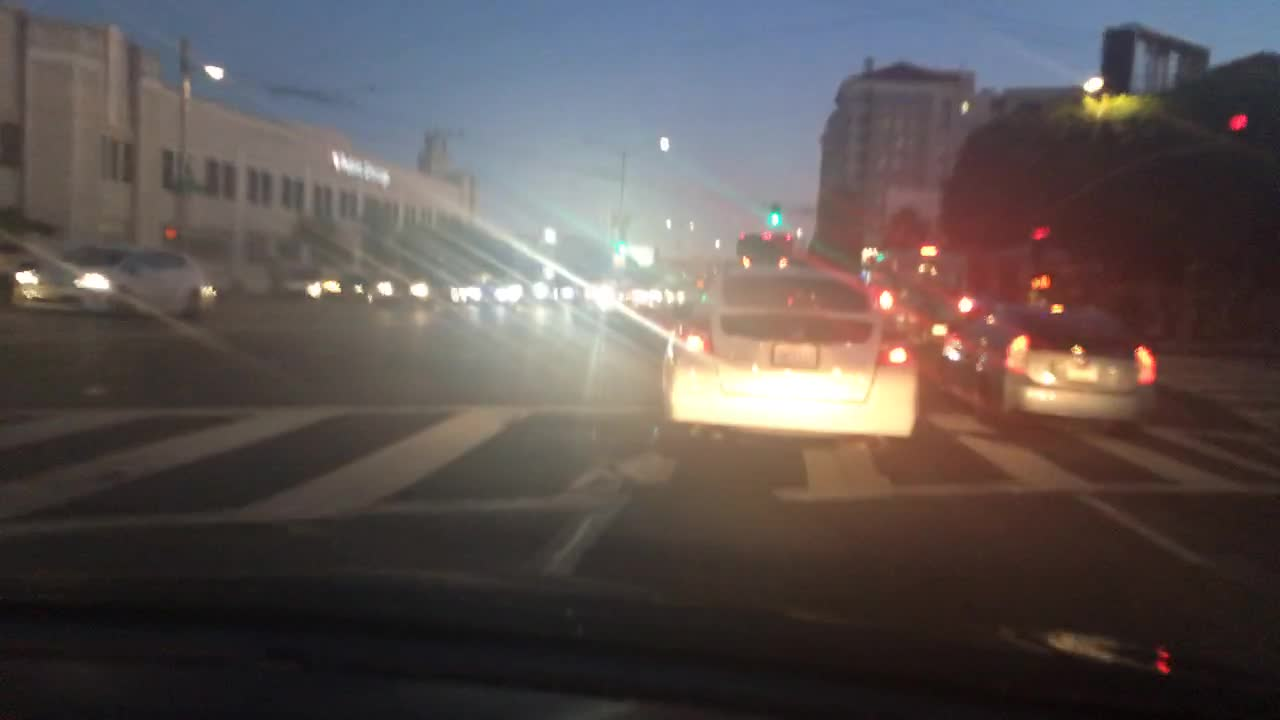car: (652, 260, 922, 458), (976, 298, 1160, 434), (10, 245, 216, 316), (934, 290, 1023, 383), (901, 283, 980, 354), (576, 280, 624, 317), (376, 274, 432, 304), (284, 263, 323, 299), (323, 272, 370, 299), (664, 278, 703, 308), (448, 280, 502, 301), (505, 281, 549, 305), (625, 284, 661, 308), (878, 286, 901, 320)
traffic light: (1229, 110, 1260, 139), (1029, 224, 1050, 247), (161, 224, 182, 241), (769, 206, 781, 232), (613, 239, 625, 256)
